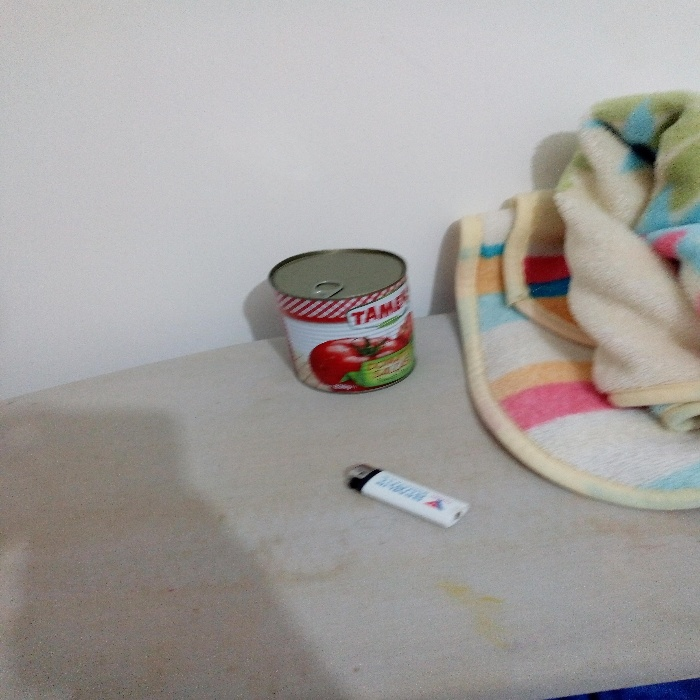salca: (270, 235, 434, 395)
